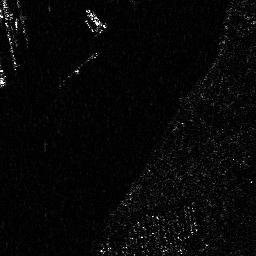ship: (85, 8, 107, 30)
